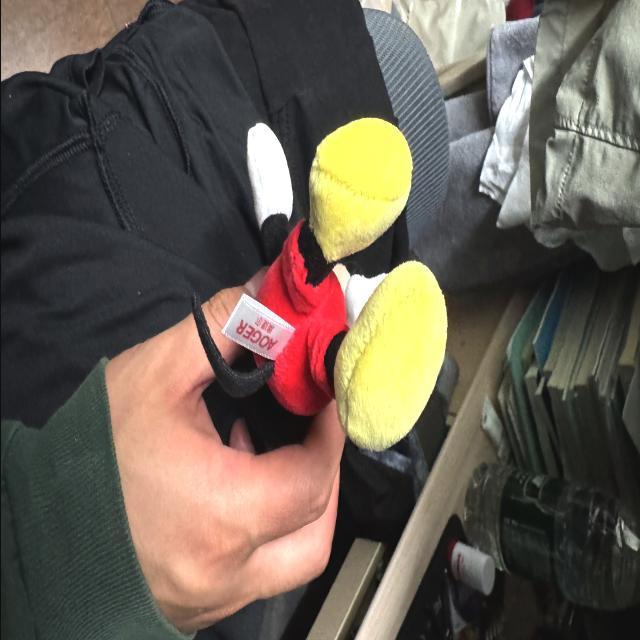mickey: (193, 119, 445, 449)
